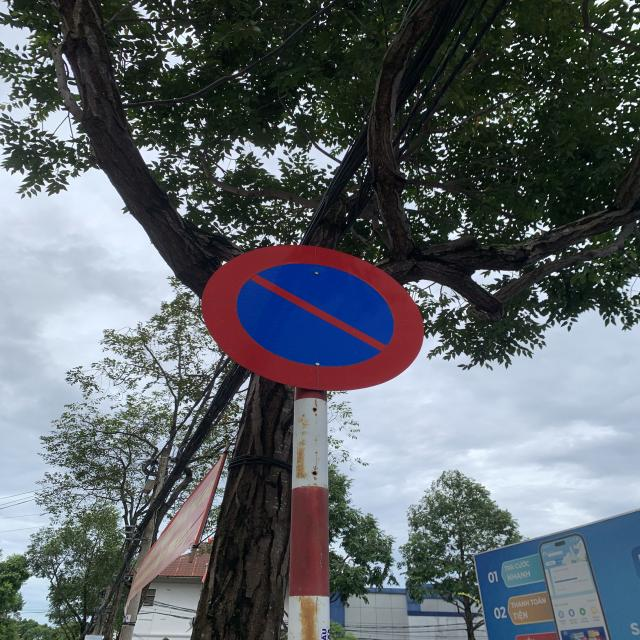Cam_Dau_Xe: (204, 243, 426, 388)
